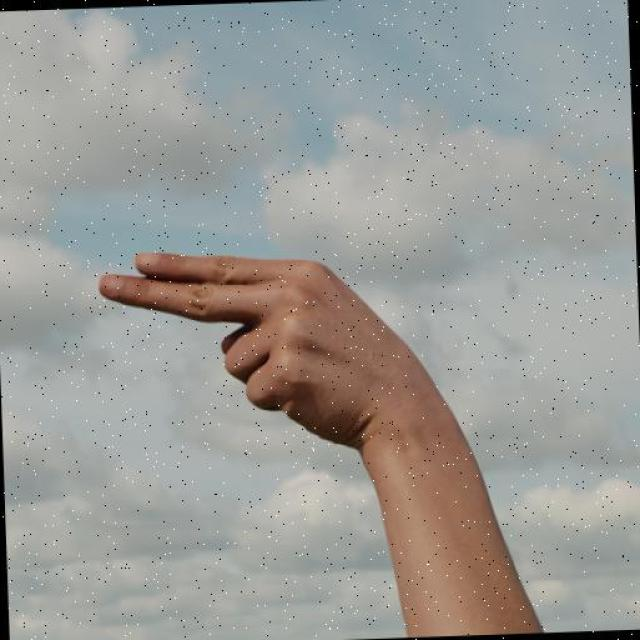H: (87, 240, 478, 478)
